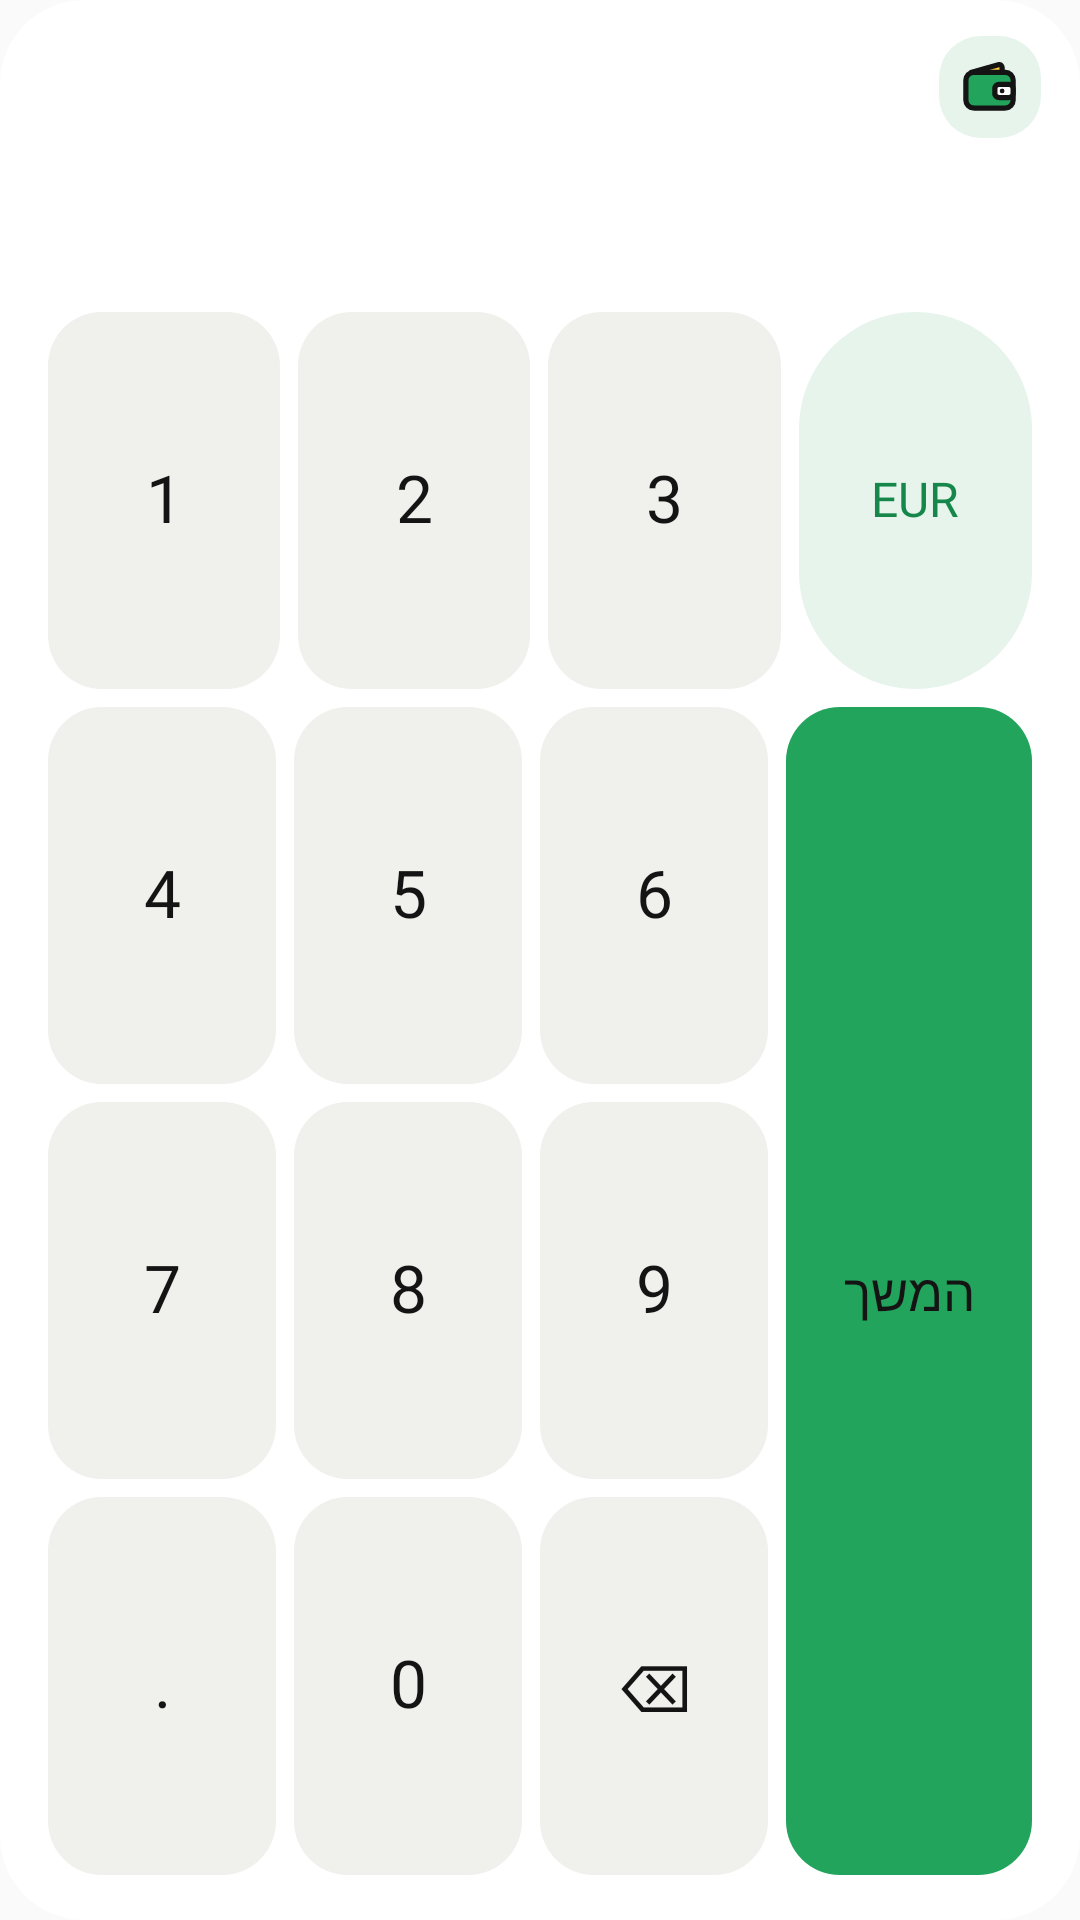

Named icons in this screenshot (1080 × 1920) and their bounding boxes, (x1, y1, x2, y2):
wallet: (963, 62, 1016, 111)
